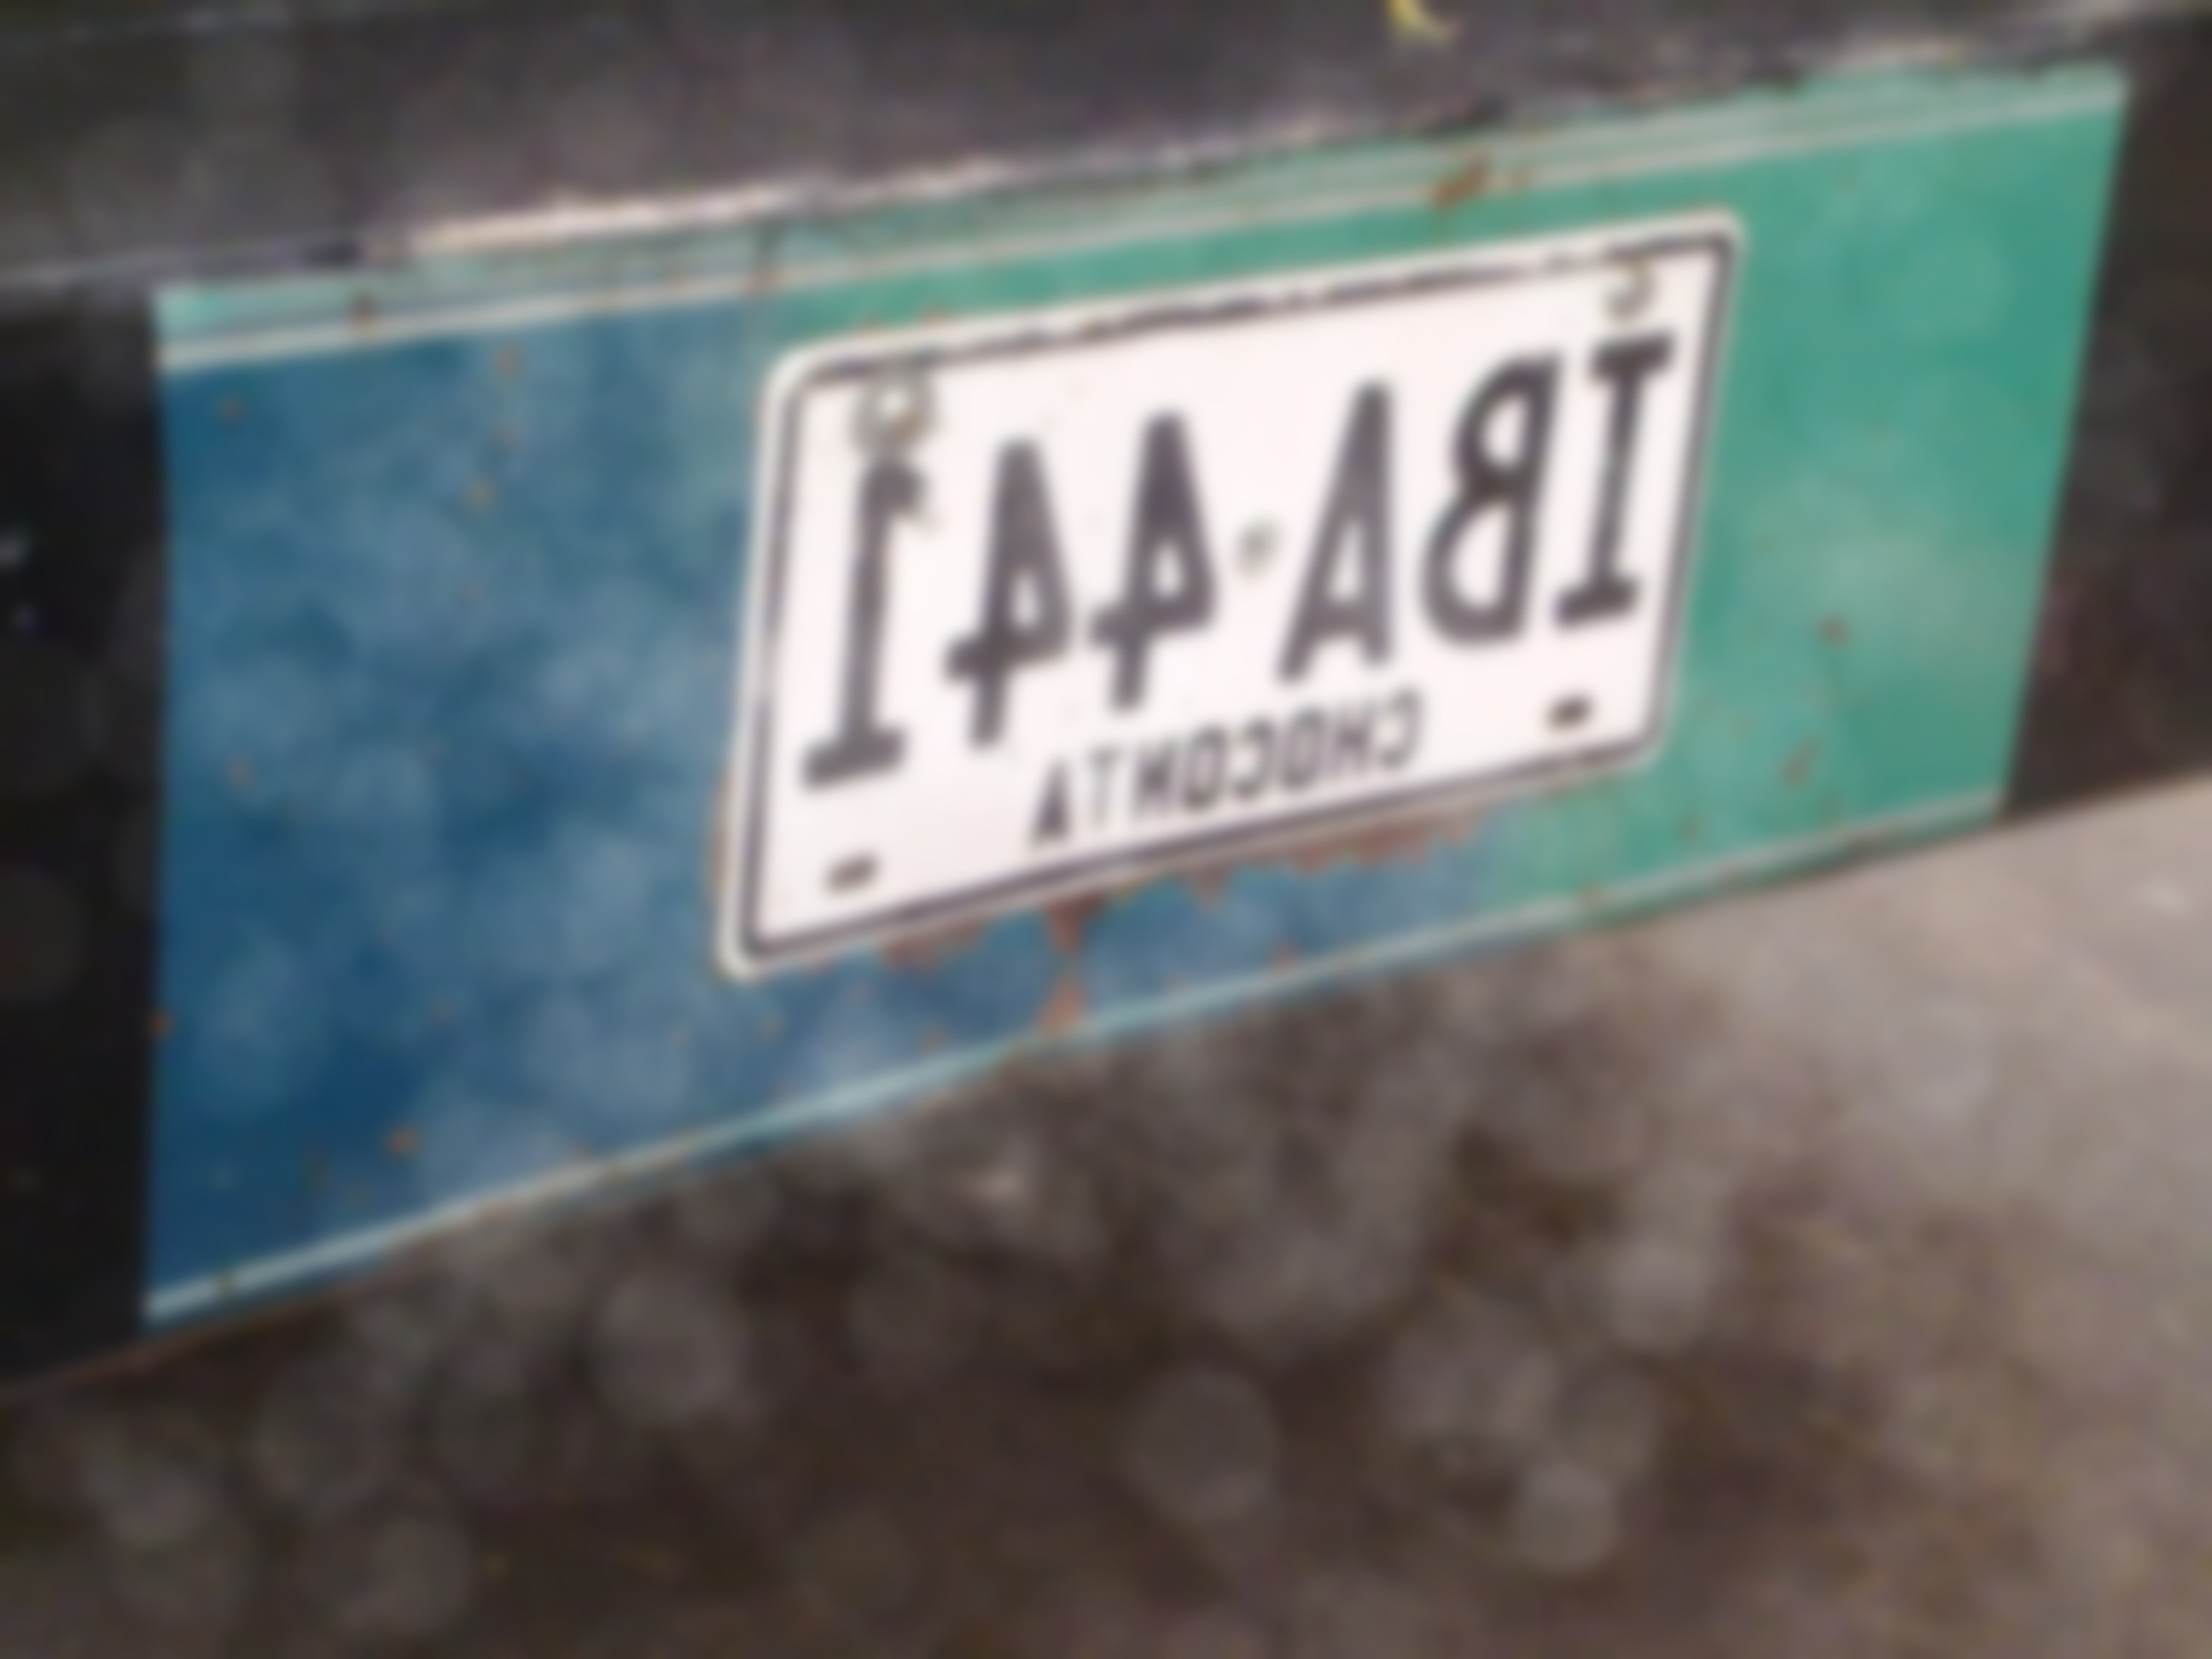placas: (704, 196, 1749, 993)
